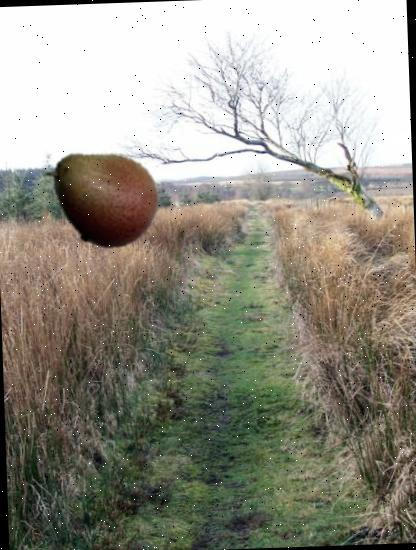Pear: (37, 132, 164, 258)
